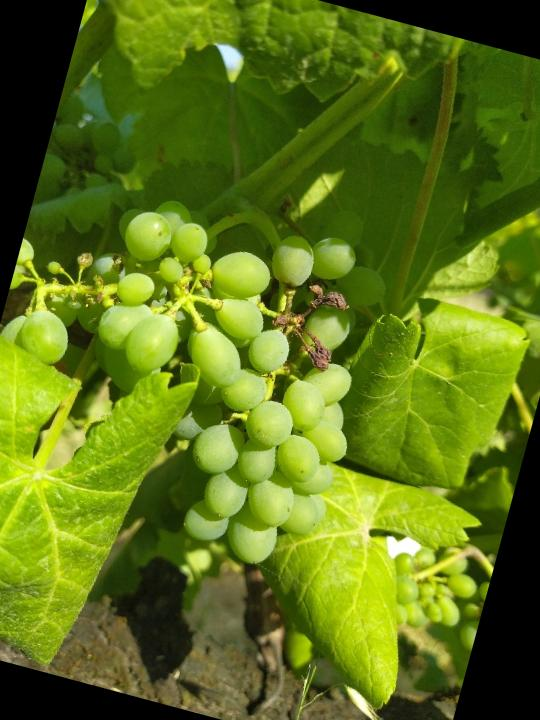grape: (0, 128, 410, 589)
